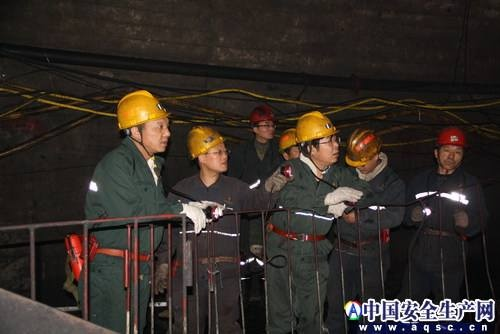red: (434, 125, 466, 170), (250, 104, 278, 141)
yellow: (118, 89, 172, 153), (297, 111, 341, 166), (189, 126, 232, 176), (343, 124, 383, 174), (280, 128, 302, 160)
